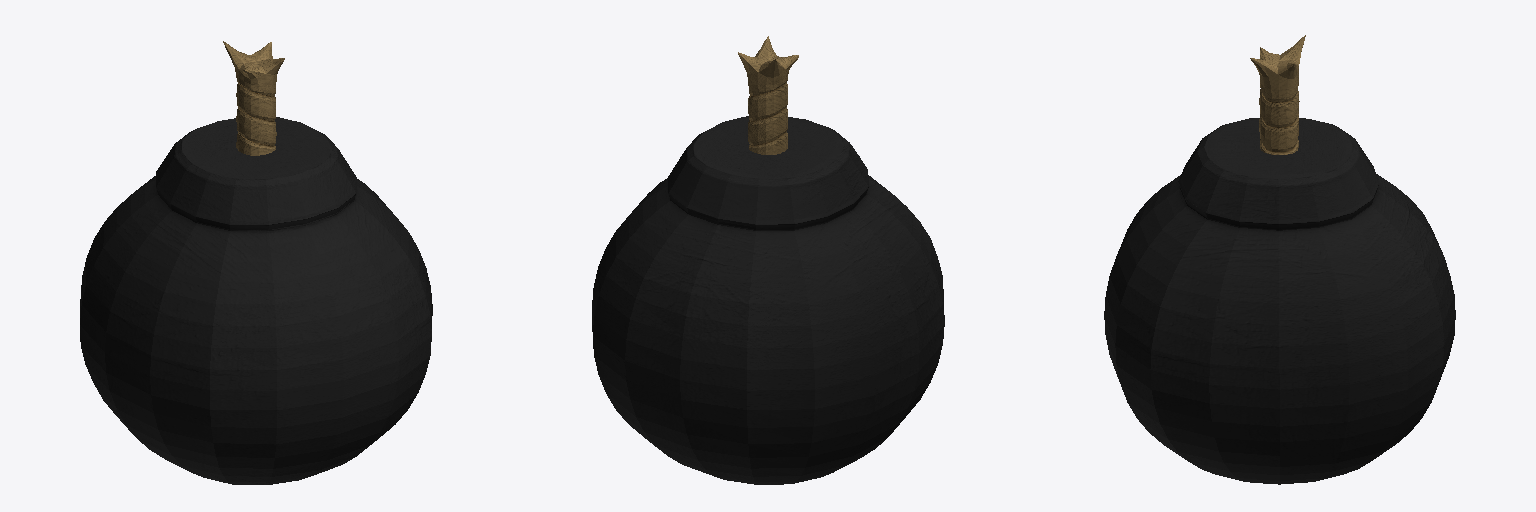
3 views of the same model, side by side, from view 1: azimuth 30°, elevation 25°; view 2: azimuth 150°, elevation 25°; view 3: azimuth 270°, elevation 25° (orthographic).
Parts seen in each view (by area): view 1: Bomb_Low; view 2: Bomb_Low; view 3: Bomb_Low.
Part boxes in pixels (x1,y1,x2,y2): Bomb_Low: (80, 41, 432, 484); Bomb_Low: (592, 36, 944, 484); Bomb_Low: (1104, 35, 1455, 484).
Bounding box in the file's own units: 260 × 346 × 262.
1 materials, 1 textured.